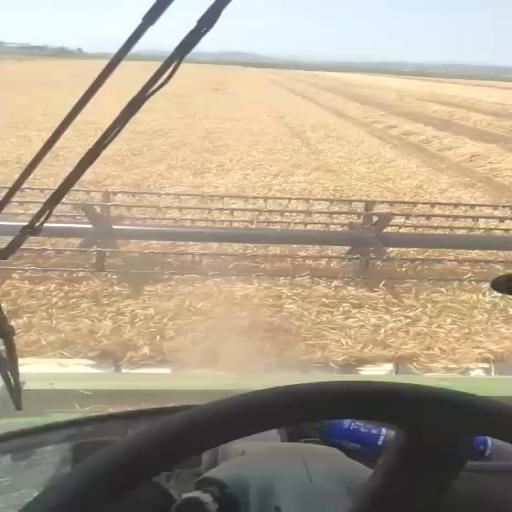bugday: (1, 58, 512, 375), (1, 54, 109, 206)
